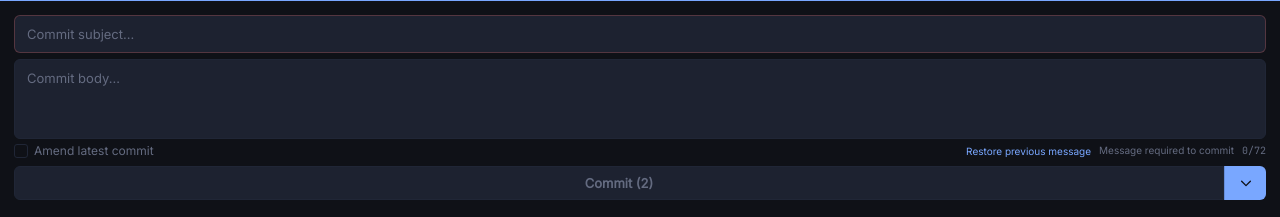
Scenario: CommitBox › offers COMMIT_EDITMSG recovery when no local draft exists
Step 1. Click the button "Restore previous message" → click(1029, 150), box x1=966 y1=144 x2=1091 y2=157
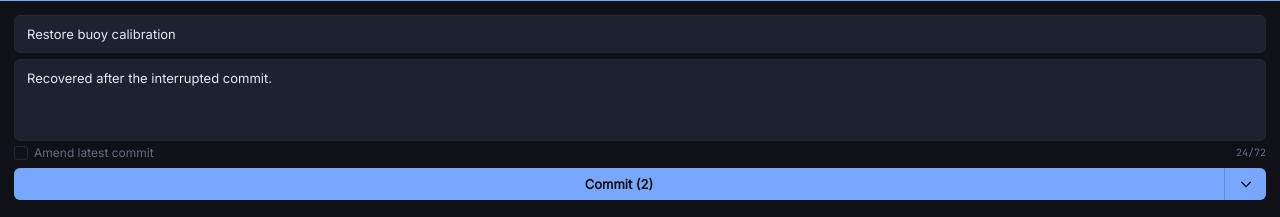
Expected: the field with placeholder "Commit subject..." holds "Restore buoy calibration", x1=14 y1=15 x2=1266 y2=53
Expected: the text box with placeholder "Commit body..." holds "Recovered after the interrupted commit.", x1=14 y1=59 x2=1266 y2=141
